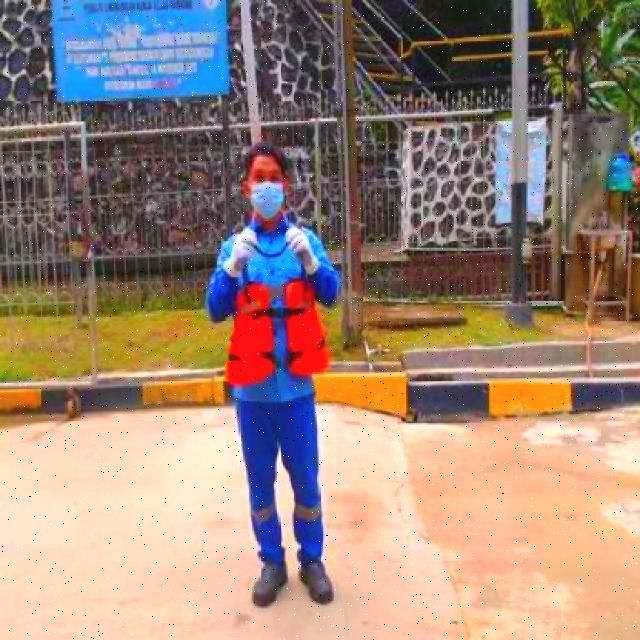Boots: (251, 548, 291, 614), (294, 552, 338, 611)
Gloves: (282, 223, 322, 280), (218, 228, 260, 282)
Mask: (224, 278, 328, 386)
